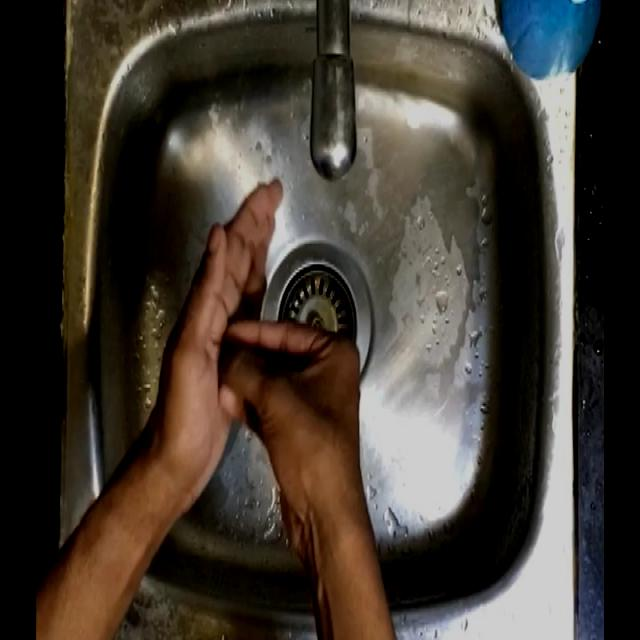step_6: (150, 166, 372, 503)
